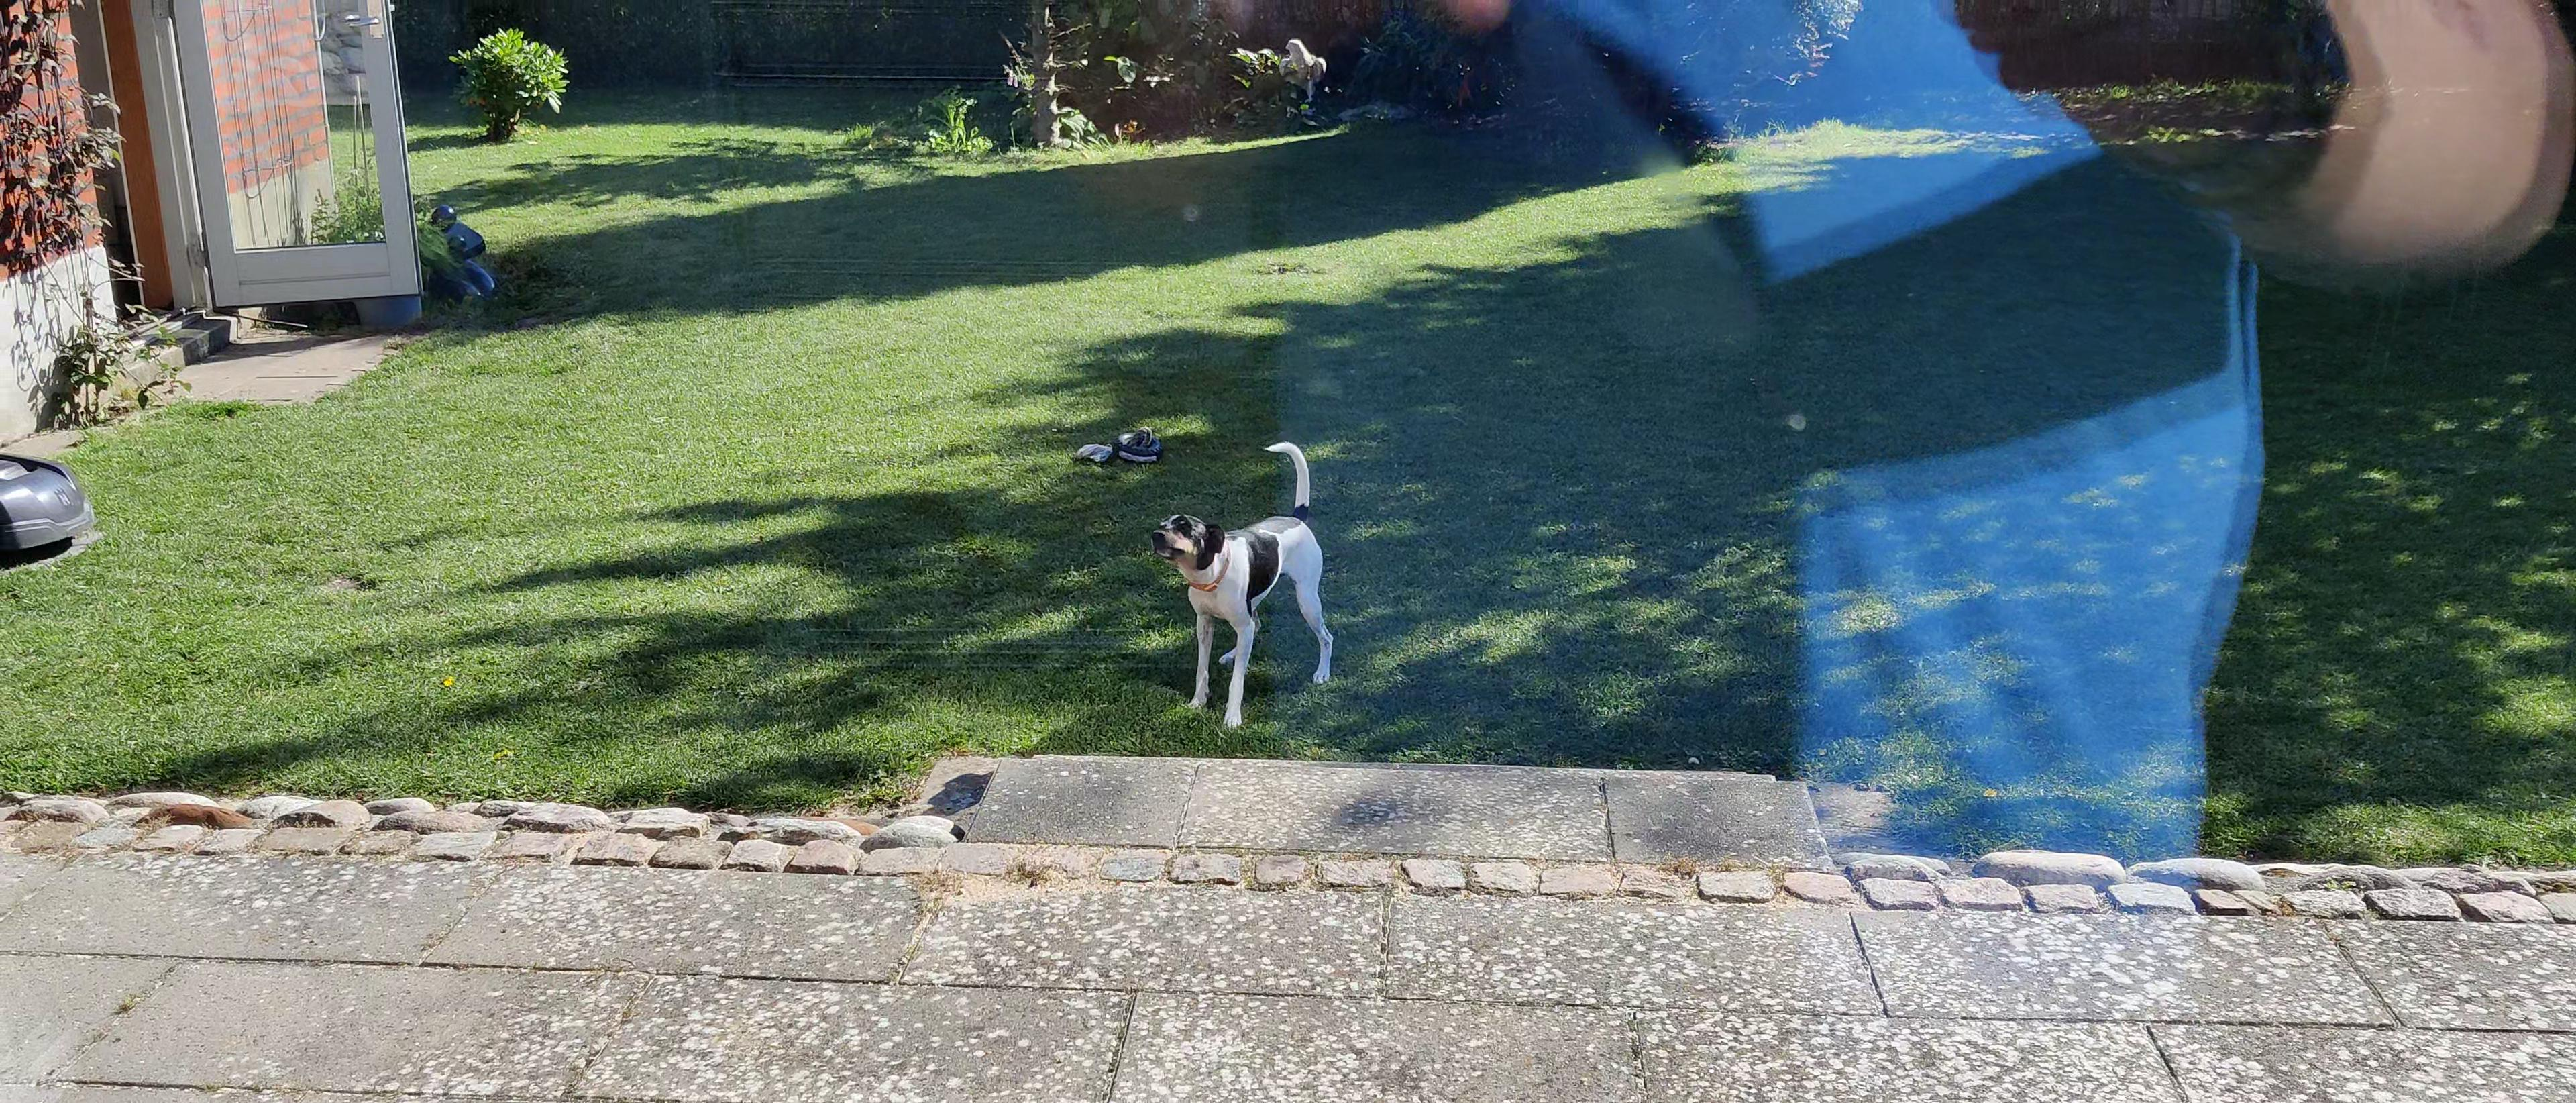Dog: (1147, 437, 1337, 735)
